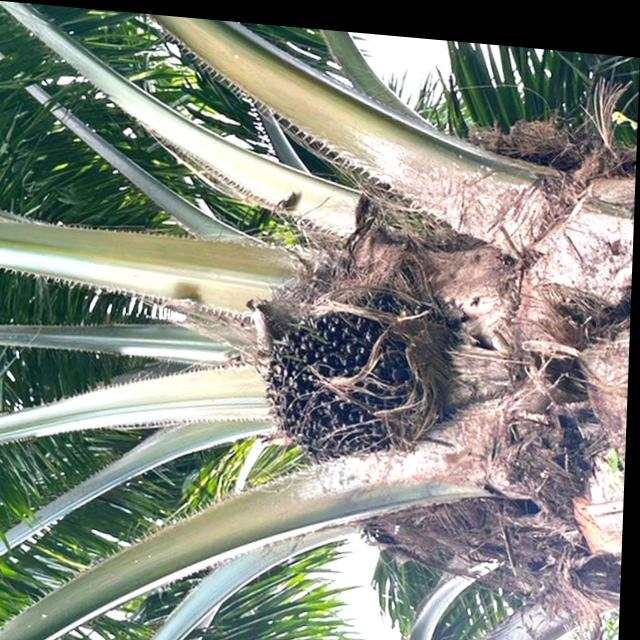unripe: (256, 271, 460, 467)
